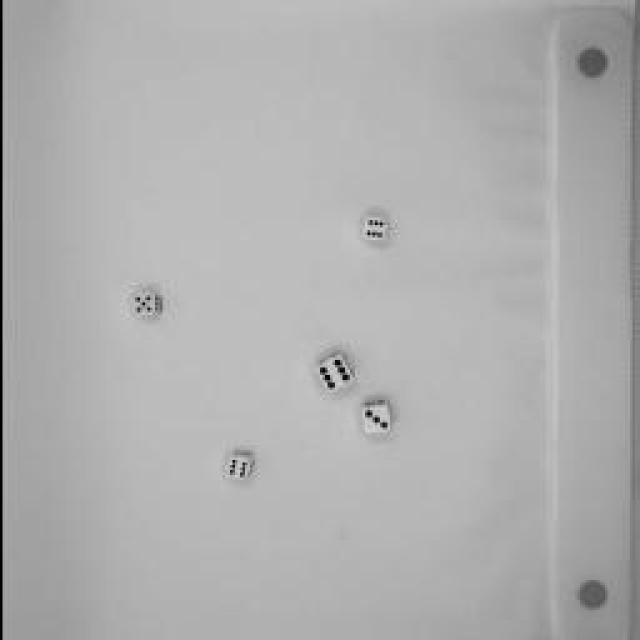dice_3: (350, 395, 395, 440)
dice_5: (128, 292, 164, 322)
dice_6: (310, 349, 355, 396), (220, 445, 258, 485), (358, 213, 390, 245)
